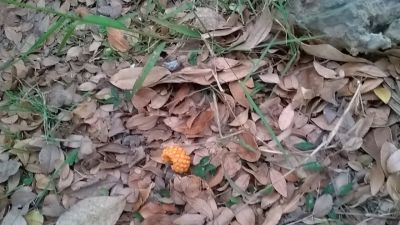eggs: (161, 146, 191, 173)
